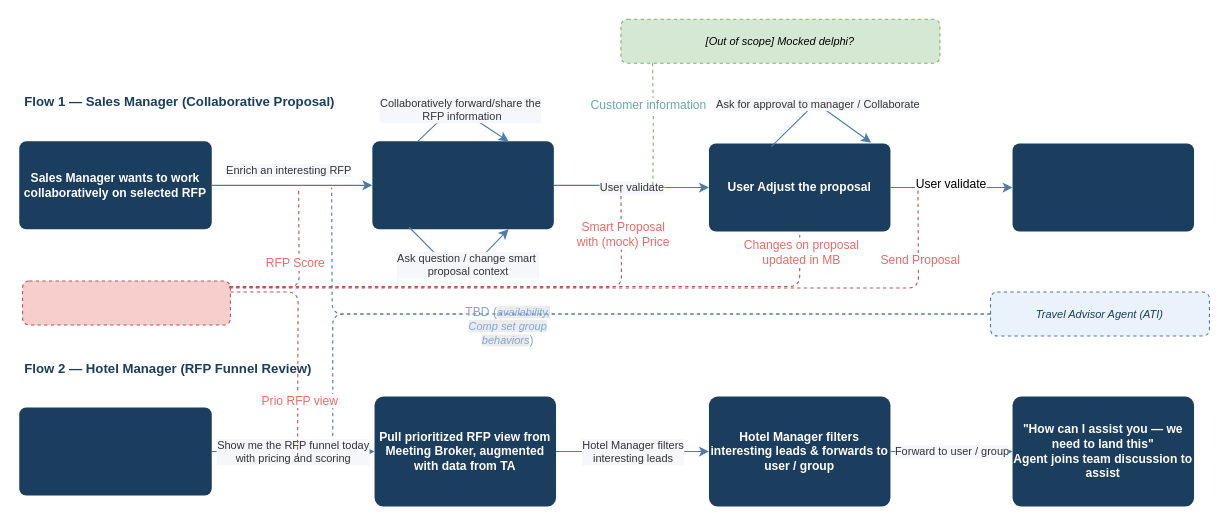
The diagram is 1229 pixels wide and 526 high, and some of its shapes have lost their labels. Each missing label, with the box of its shape:
Confirmation in Teams: (1012, 143, 1194, 231)
Hotel Manager sends a quick pre-prepped message to agent: (19, 407, 211, 495)
Meeting broker (MB) API: (21, 280, 230, 325)
Users see the enriched RFP (including score calculation): (372, 141, 553, 229)
